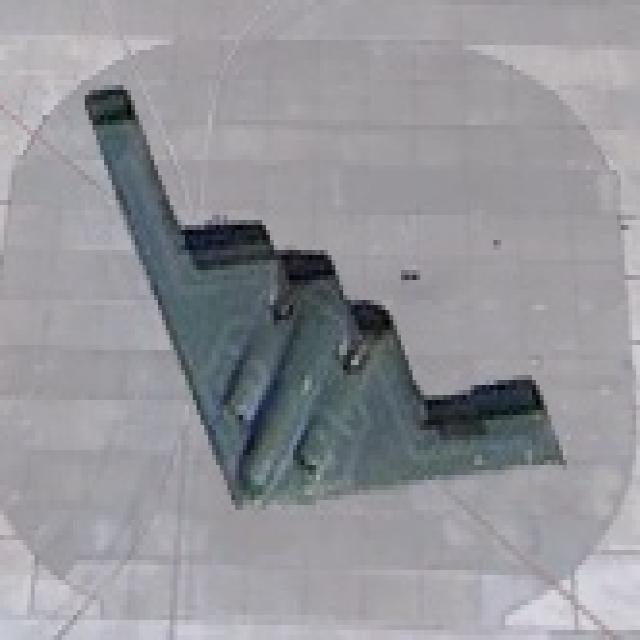B-2_TopDown: (77, 75, 567, 510)
